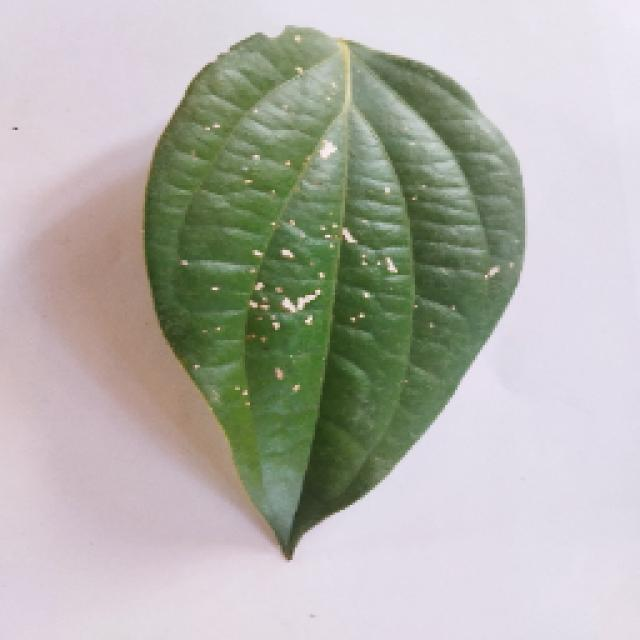pollu-disease: (145, 27, 525, 555)
